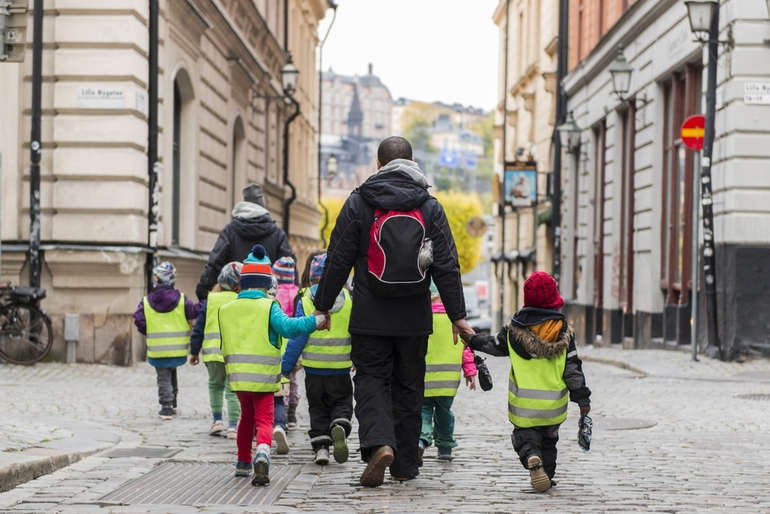person with partial safety: (332, 137, 452, 486), (218, 251, 294, 491), (498, 269, 571, 491), (296, 257, 354, 469), (421, 281, 471, 461), (143, 260, 194, 417)
person without safety: (205, 188, 296, 280)
safety vest: (504, 331, 573, 433), (219, 297, 289, 396), (301, 286, 353, 368), (423, 313, 467, 396), (142, 293, 192, 359), (205, 288, 237, 361)
